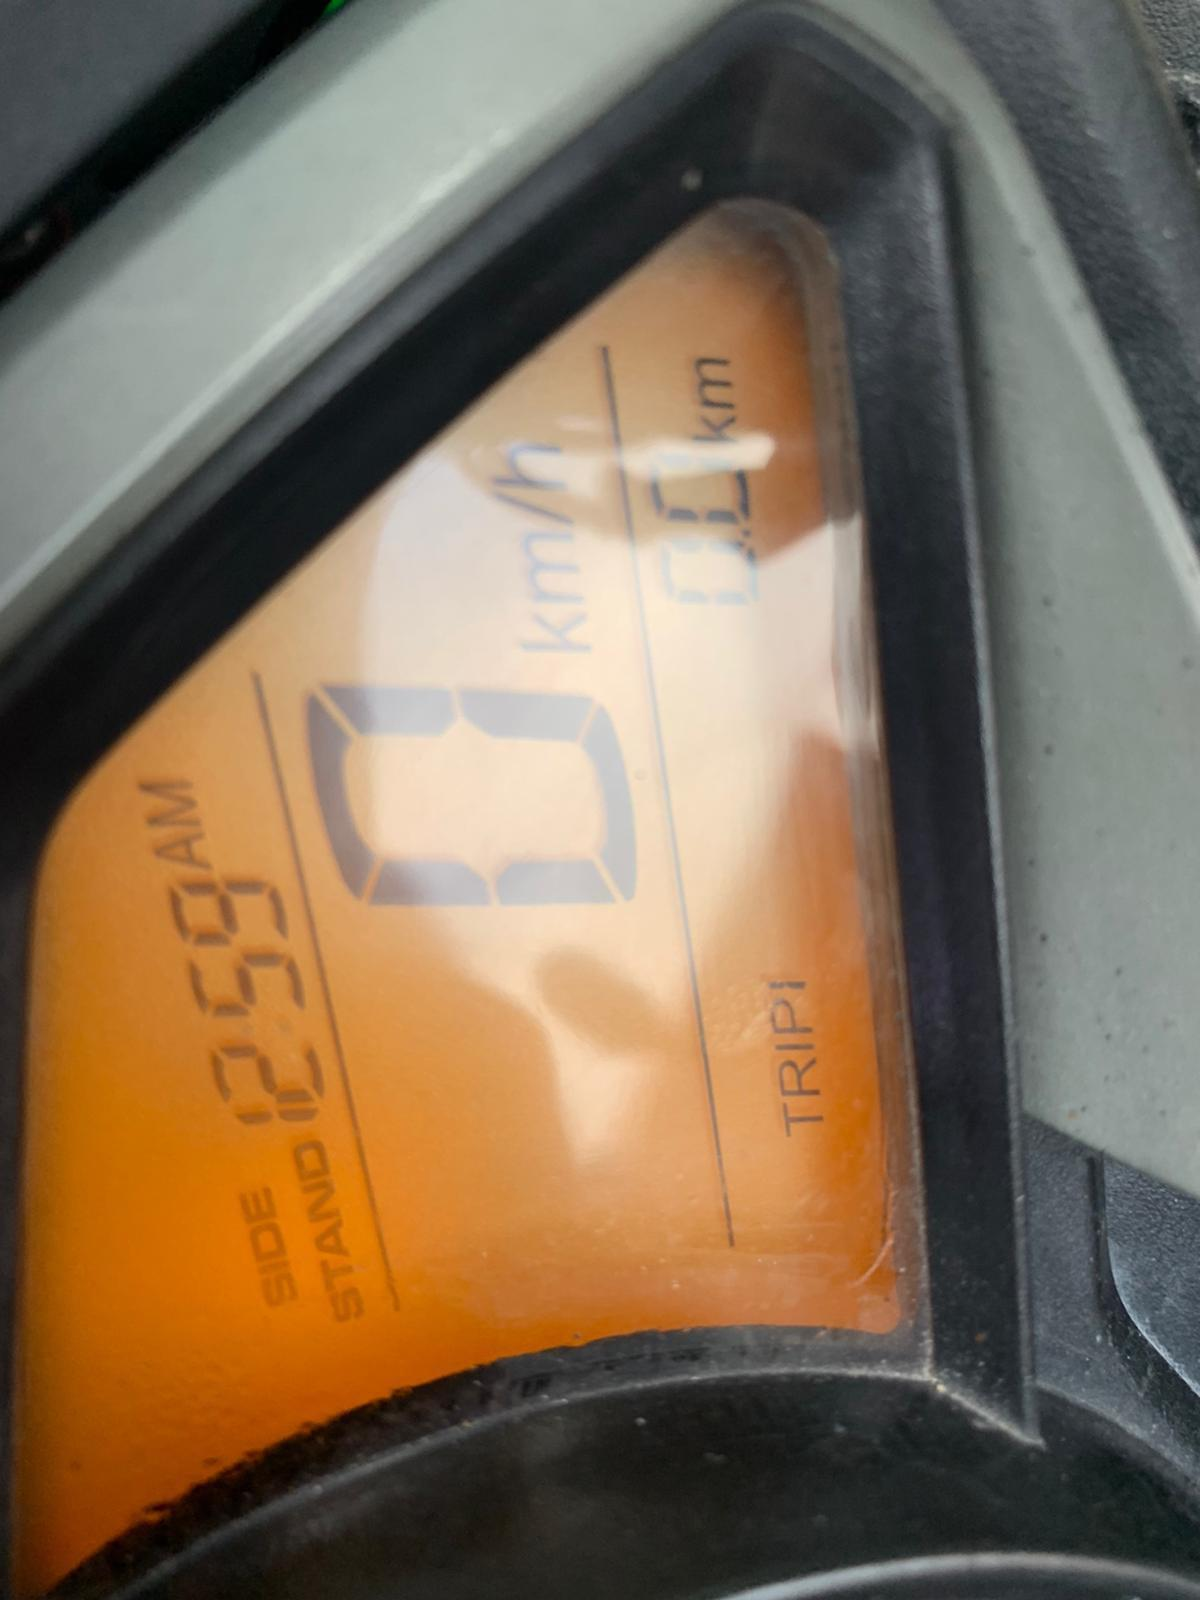,: (736, 527, 759, 540)
0: (315, 682, 643, 910), (645, 452, 758, 522), (650, 540, 763, 609)
1: (229, 1104, 329, 1133), (758, 973, 813, 995)
2: (207, 1044, 332, 1104)
5: (179, 950, 311, 1015)
9: (164, 876, 295, 944)
X: (475, 433, 582, 488), (509, 607, 608, 661), (521, 528, 586, 606), (137, 770, 200, 833), (482, 488, 579, 528), (687, 354, 744, 408), (153, 826, 217, 871), (677, 409, 742, 449), (774, 1056, 832, 1099), (761, 1002, 821, 1036), (776, 1104, 828, 1139), (303, 1180, 345, 1222), (237, 1183, 279, 1225), (329, 1285, 369, 1327), (290, 1141, 334, 1179), (257, 1274, 301, 1311), (246, 1223, 284, 1264), (316, 1220, 353, 1257), (319, 1259, 355, 1293), (233, 1018, 301, 1036), (247, 1259, 297, 1277), (765, 1039, 827, 1054)
odometer: (0, 157, 986, 1569)
